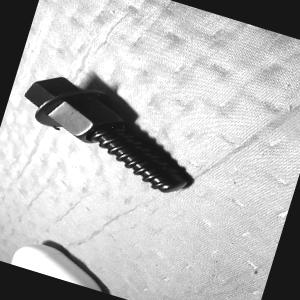parafuso: (8, 66, 210, 200)
